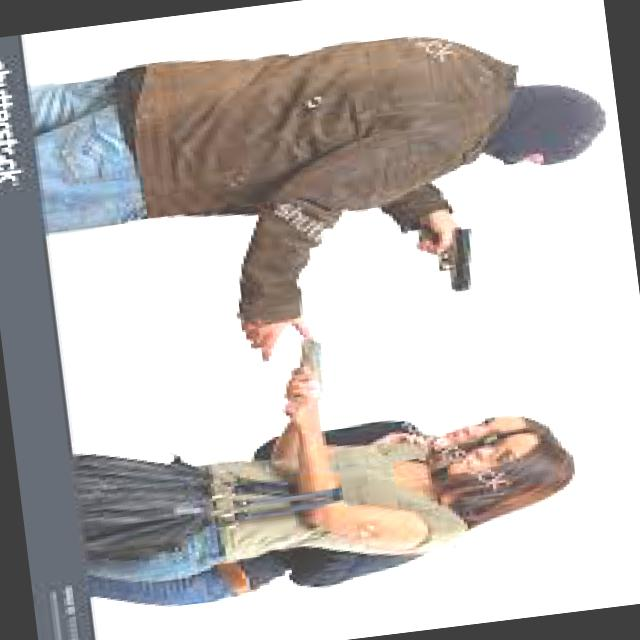handgun: (424, 224, 486, 288)
